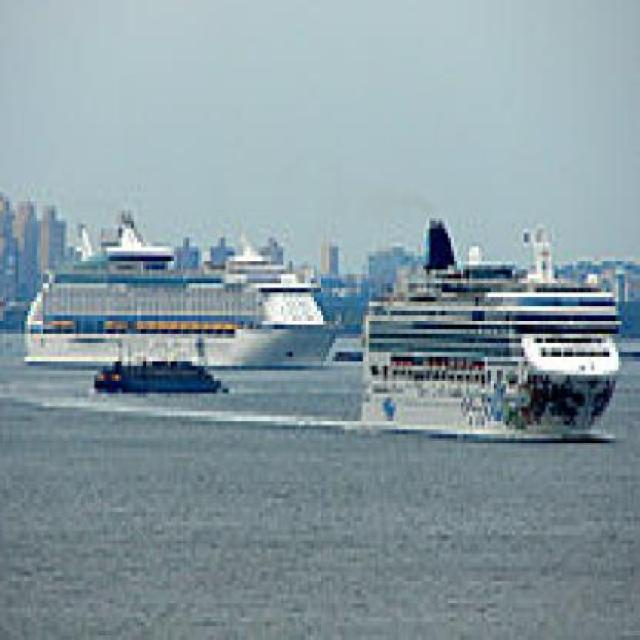cruise: (349, 234, 635, 463), (20, 197, 346, 380)
